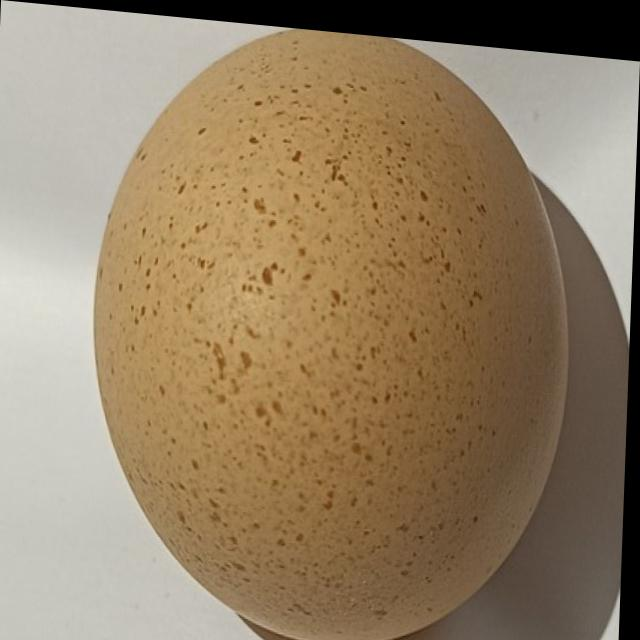unfresh: (76, 7, 591, 640)
